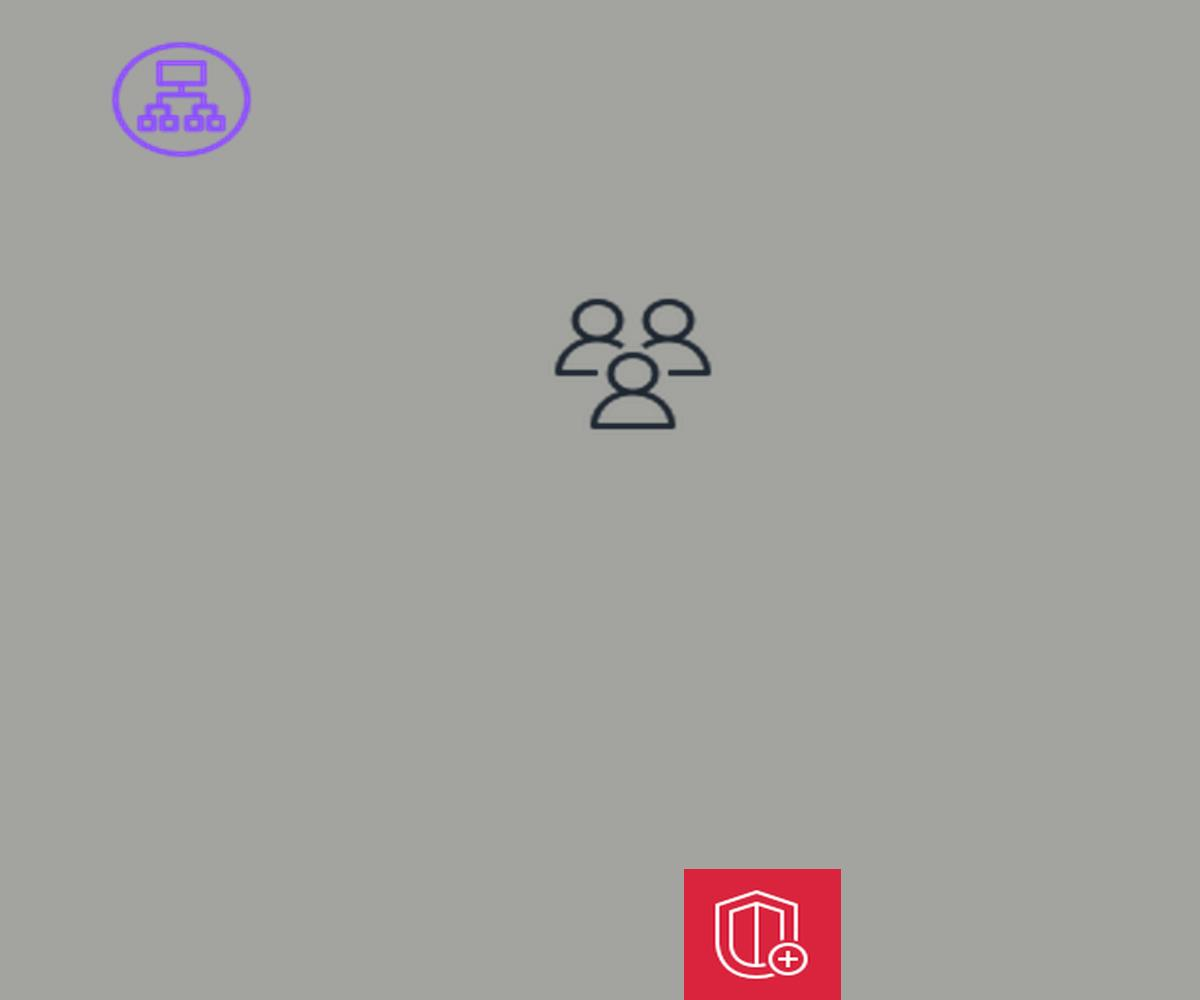AWS-Res_Elastic-Load-Balancing_Application-Load-Balancer: (106, 37, 257, 162)
AWS-Res_Users: (548, 293, 718, 435)
AWS-Shield: (684, 869, 841, 1000)
